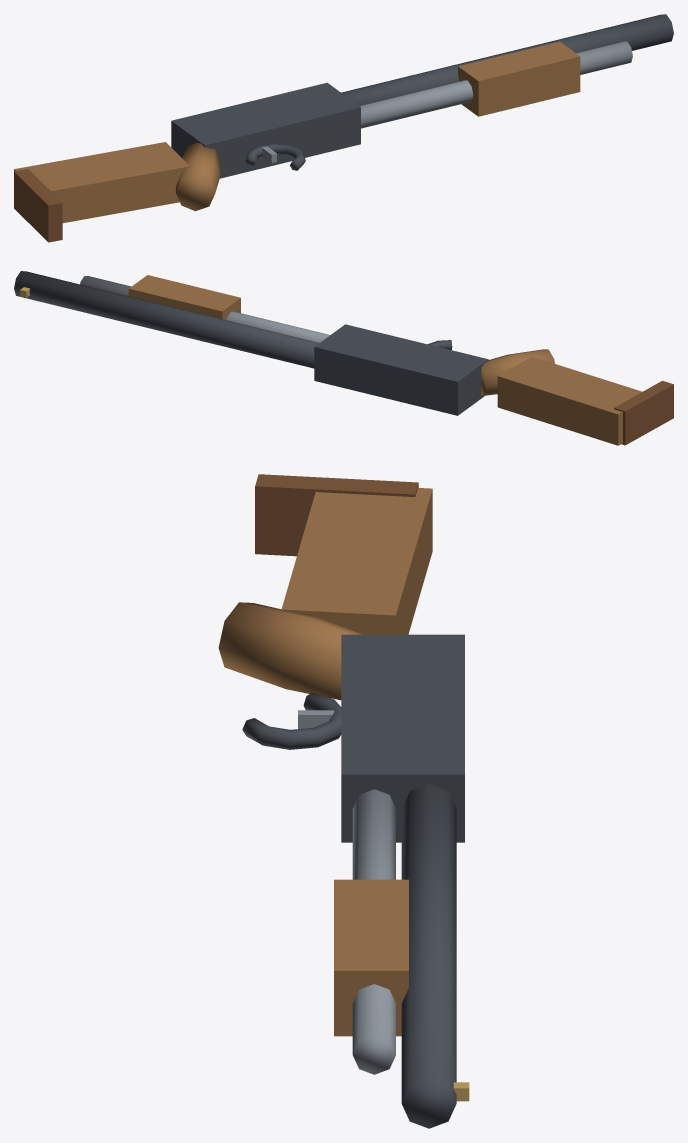
The model's file is weapon_shotgun.glb.
3 views of the same model, one above another, from view 1: azimuth 30°, elevation 25°; view 2: azimuth 150°, elevation 25°; view 3: azimuth 270°, elevation 25° (orthographic). The views are drawn at different scales.
Parts seen in each view (by area): view 1: receiver, stock, pump, barrel, tube, butt, wrist, guard; view 2: receiver, barrel, stock, pump, butt, tube, wrist; view 3: receiver, barrel, stock, pump, wrist, tube, butt, guard.
Boxes of the visible parts, <box> form: receiver: <box>171,82,360,178</box>; stock: <box>14,142,190,223</box>; pump: <box>458,41,580,116</box>; barrel: <box>341,14,673,105</box>; tube: <box>359,41,632,128</box>; butt: <box>14,169,62,242</box>; wrist: <box>175,143,220,211</box>; guard: <box>245,143,305,170</box>; receiver: <box>314,324,488,415</box>; barrel: <box>14,271,319,368</box>; stock: <box>497,356,642,445</box>; pump: <box>128,275,240,319</box>; butt: <box>614,380,673,445</box>; tube: <box>80,276,329,342</box>; wrist: <box>481,349,554,395</box>; receiver: <box>341,634,464,842</box>; barrel: <box>401,784,456,1128</box>; stock: <box>281,488,432,634</box>; pump: <box>334,879,408,1036</box>; wrist: <box>218,602,362,700</box>; tube: <box>352,789,395,1074</box>; butt: <box>255,474,418,556</box>; guard: <box>242,692,341,749</box>.
Bounding box in the file's own units: 0.9788 × 0.056 × 0.1742.
